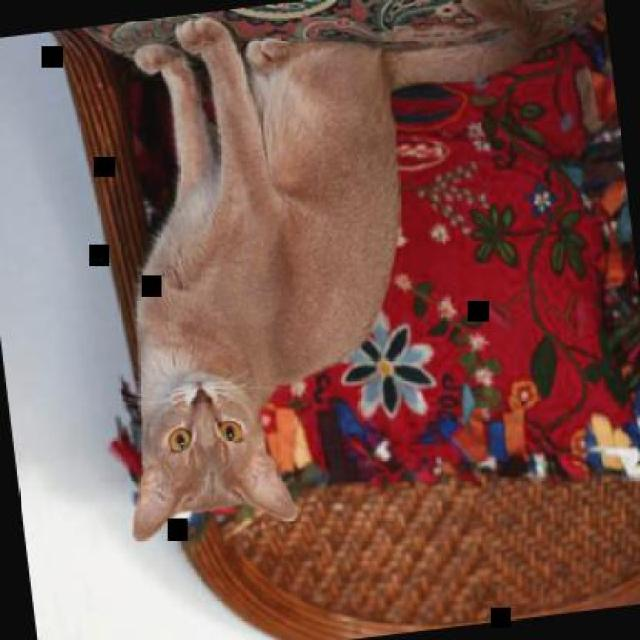cat: (69, 0, 443, 545)
